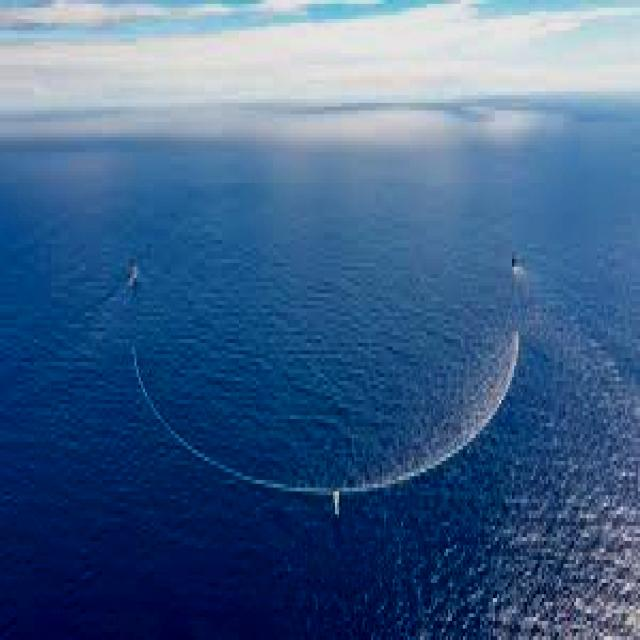plastic watse: (141, 381, 356, 514)
